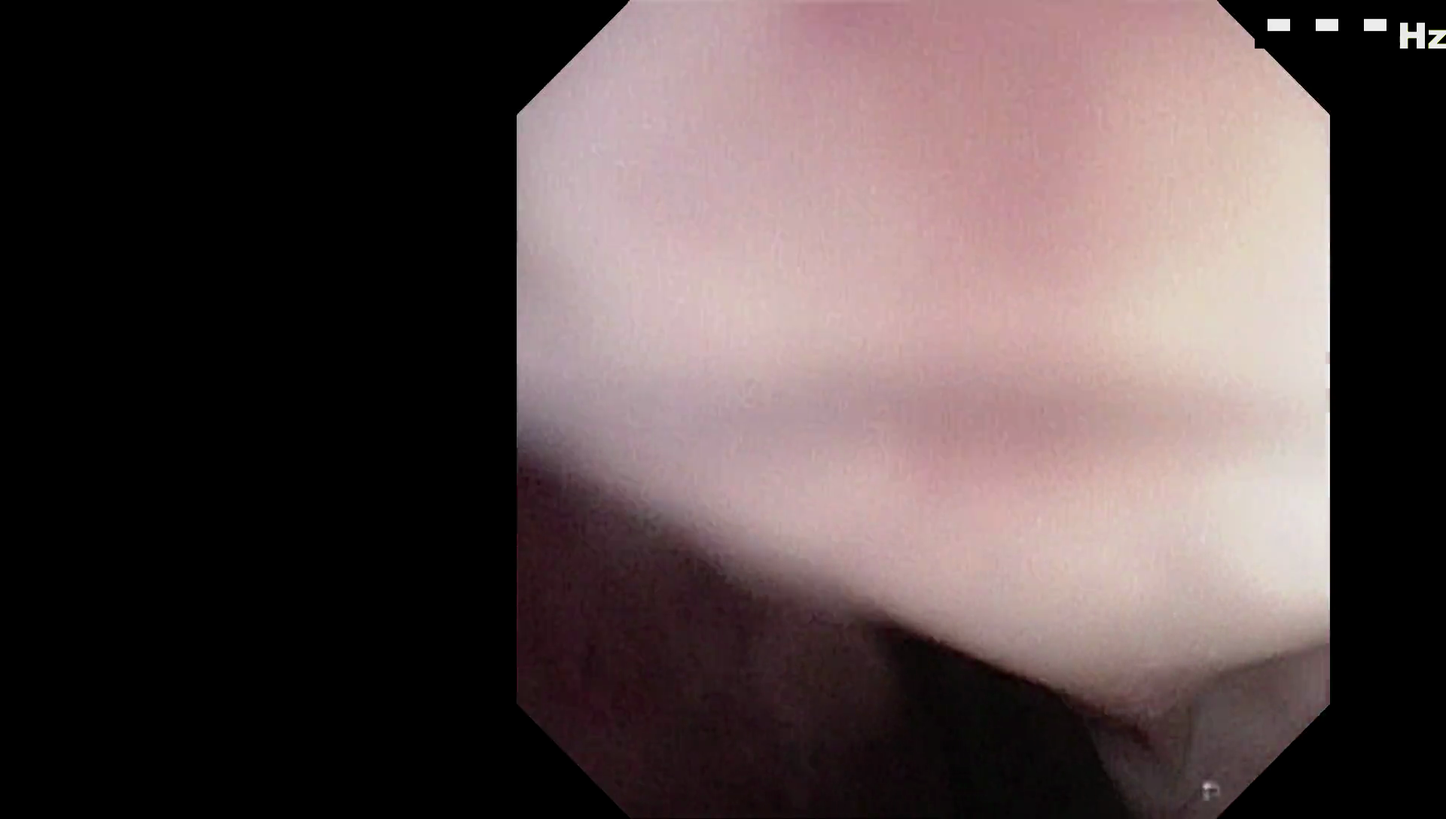close_wall: (544, 0, 1317, 674)
next: (775, 562, 1171, 819)
